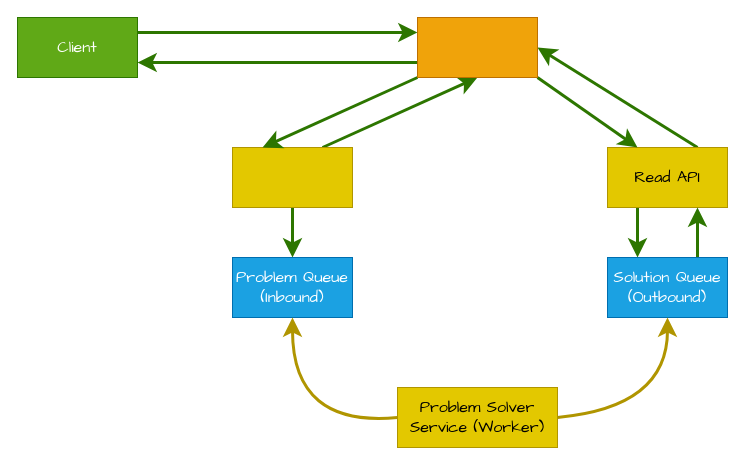
Some shapes in this 745 by 465 pixel diagram are drawn without their labels. Each missing label, with the box of its shape:
Web Server: (416, 16, 538, 78)
Write API: (232, 146, 352, 208)
